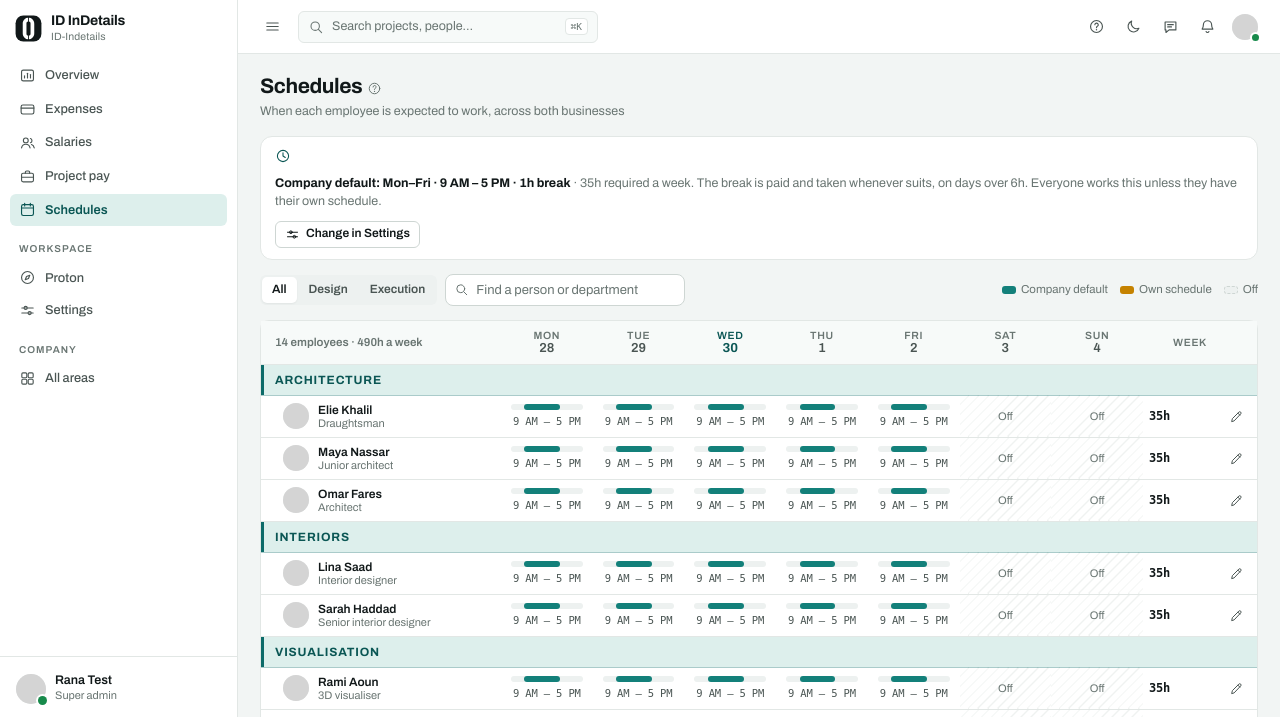
Test: Schedules › say in the form why a week wasn't saved
Click the button named "Edit Elie Khalil's schedule": (1236, 416) [1219,403,1254,430]
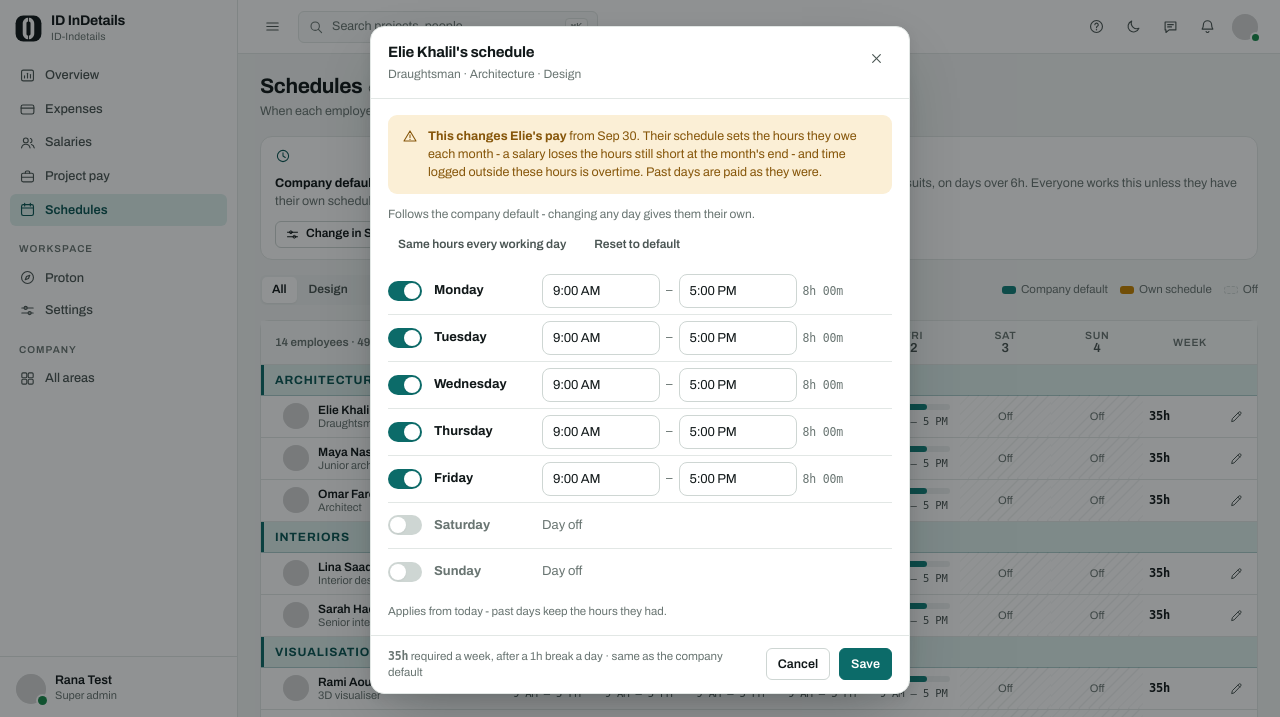
Click the switch named "Works on Monday": (405, 291) [388,281,422,301]
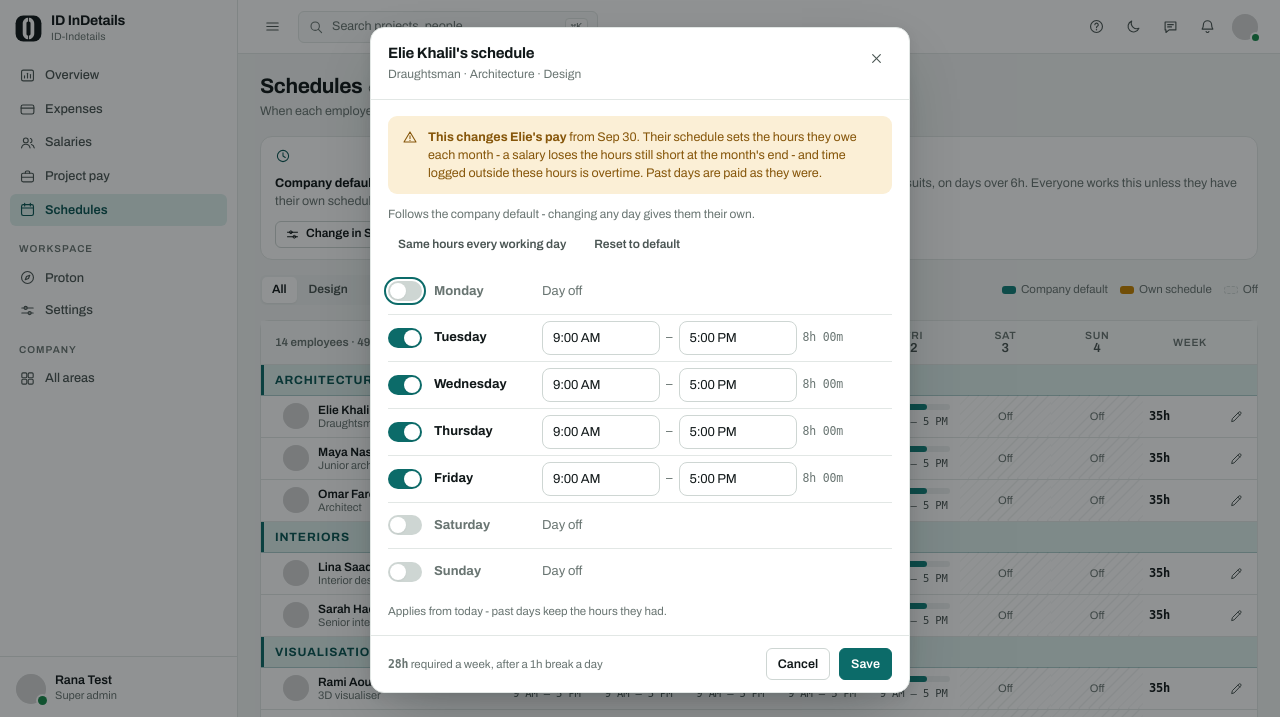
Click the button "Save": (866, 664) [839,648,892,680]
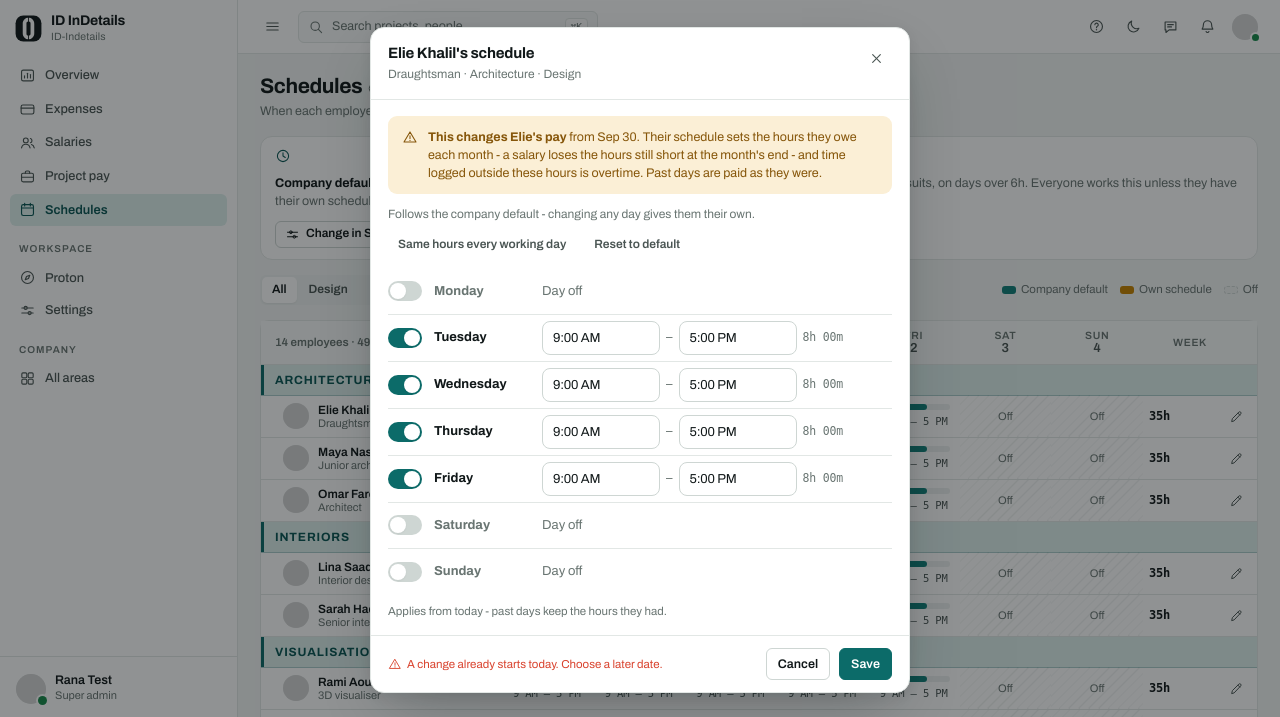
Now the message reads "A change already starts today. Choose a later date.", box [407,658,663,670]
